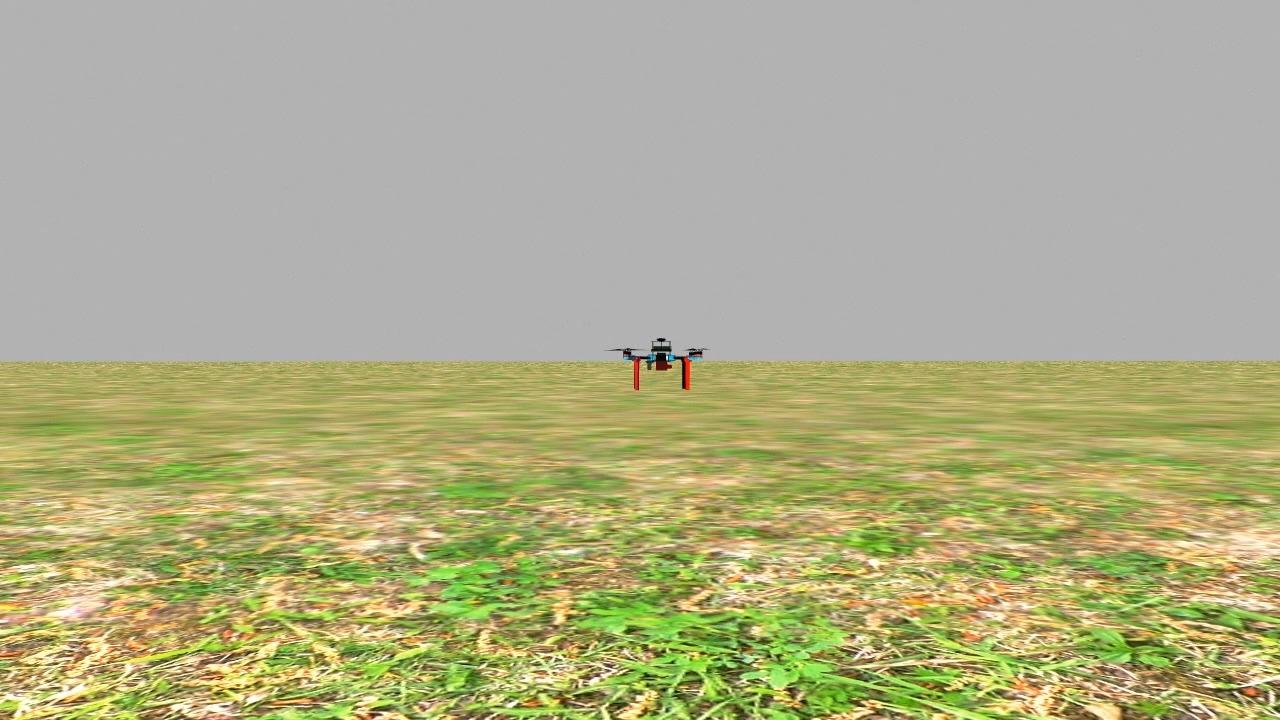UAV: (601, 327, 722, 401)
